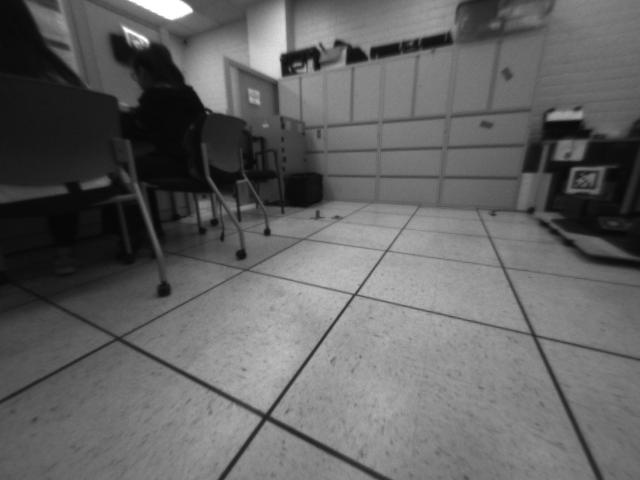X: (307, 208, 326, 221)
